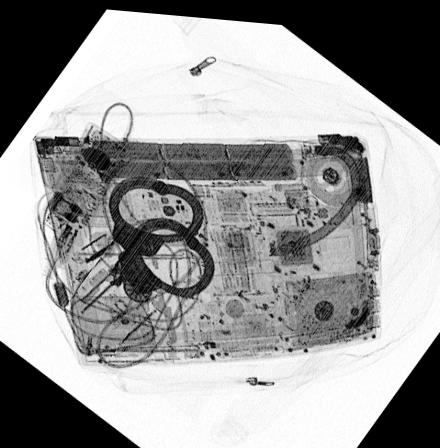HandCuffs: (106, 171, 214, 294)
